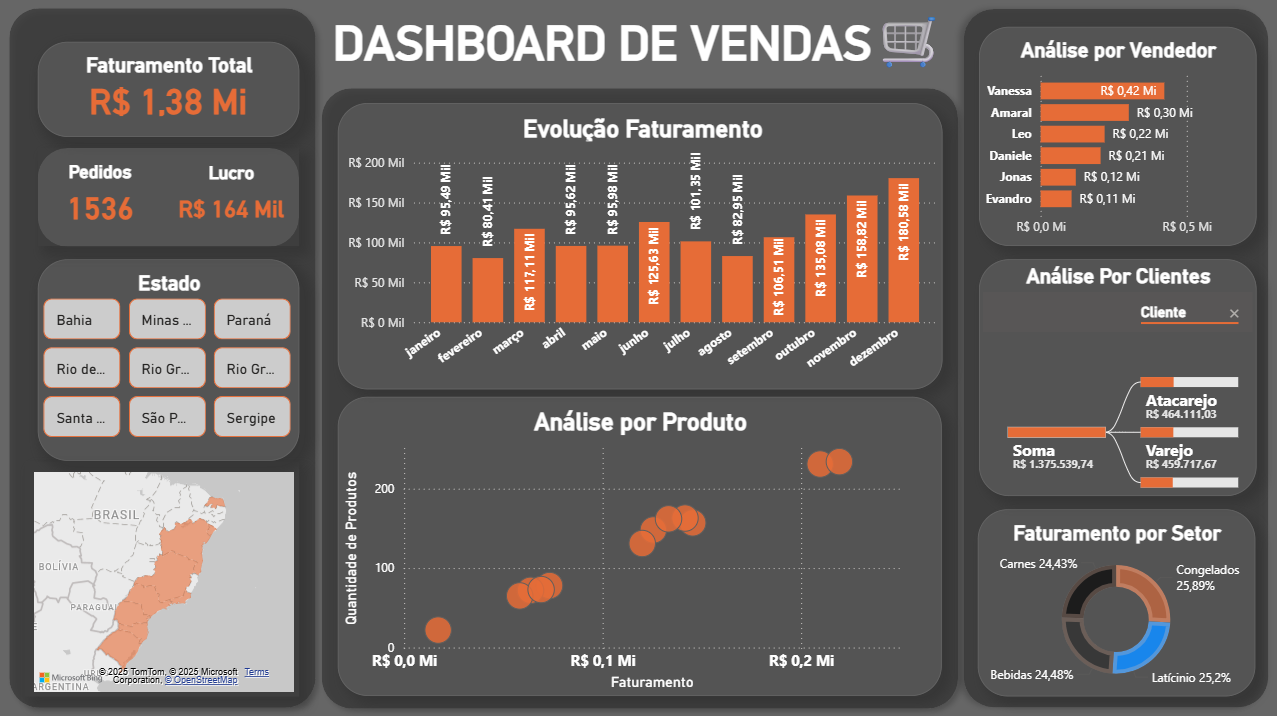

The dashboard page shown, as its layout file describes it:
{"tool":"powerbi","page":{"name":"DashBoard de Vendas","canvas":[1280,720],"ordinal":0},"visuals":[{"type":"shape","box":[313,79.5,656.7,640.8],"z":0},{"type":"shape","box":[953.8,0,326.5,720.2],"z":1000},{"type":"shape","box":[0,0,326.7,720],"z":2000},{"type":"clusteredColumnChart","title":"Evolução Faturamento","fields":{"Y":["Voitto Supply.Soma"],"Category":["Voitto Supply.Data da venda.Variation.Hierarquia de datas.Mês"]},"box":[338.8,105,605,286.2],"z":3000},{"type":"clusteredBarChart","title":"Análise por Vendedor","fields":{"Category":["Voitto Supply.Vendedor"],"Y":["Voitto Supply.Soma"]},"box":[979.6,29,277.5,219.6],"z":4000},{"type":"card","title":"Faturamento Total","fields":{"Values":["Voitto Supply.Soma"]},"box":[38.6,43.4,261.8,95.3],"z":5000},{"type":"advancedSlicerVisual","fields":{"Values":["Voitto Supply.Estado"]},"box":[38.6,261.8,261.8,201.5],"z":6000},{"type":"donutChart","title":"Faturamento por Setor","fields":{"Y":["Voitto Supply.Soma"],"Category":["Voitto Supply.Setor"]},"box":[978.4,511.5,277.5,187],"z":7000},{"type":"scatterChart","title":"Análise por Produto","fields":{"X":["Voitto Supply.Soma"],"Category":["Voitto Supply.Produto"],"Y":["Voitto Supply.Medida"]},"box":[338.7,398.6,604.1,299.6],"z":8000},{"type":"decompositionTreeVisual","title":"Análise Por Clientes","fields":{"Analyze":["Voitto Supply.Soma"],"ExplainBy":["Voitto Supply.Cliente"]},"box":[979.6,261.8,277.5,236.5],"z":9000},{"type":"filledMap","fields":{"Category":["Voitto Supply.Estado"]},"box":[26.5,463.3,273.9,235.3],"z":10000},{"type":"textbox","box":[325.7,0,627.3,117],"z":11000},{"type":"shape","box":[38.8,150,261.2,98.8],"z":12000},{"type":"card","title":"Pedidos","fields":{"Values":["Voitto Supply.Produto"]},"box":[38.8,152.5,125,96.2],"z":13000},{"type":"card","title":"Lucro","fields":{"Values":["Voitto Supply.LucroSoma"]},"box":[170,153.8,125,96.2],"z":14000}]}

Visuals, with their boxes in screenshot pixels (x1, y1, x2, y2), scaled from the page's 1280x720 canvas onto the 1277x716 screenshot:
shape: <region>312, 79, 967, 715</region>
shape: <region>952, 0, 1276, 715</region>
shape: <region>0, 0, 326, 715</region>
"Evolução Faturamento" clusteredColumnChart: <region>338, 104, 942, 389</region>
"Análise por Vendedor" clusteredBarChart: <region>977, 29, 1254, 247</region>
"Faturamento Total" card: <region>39, 43, 300, 138</region>
advancedSlicerVisual - Voitto Supply.Estado: <region>39, 260, 300, 461</region>
"Faturamento por Setor" donutChart: <region>976, 509, 1253, 695</region>
"Análise por Produto" scatterChart: <region>338, 396, 941, 694</region>
"Análise Por Clientes" decompositionTreeVisual: <region>977, 260, 1254, 496</region>
filledMap - Voitto Supply.Estado: <region>26, 461, 300, 695</region>
textbox: <region>325, 0, 951, 116</region>
shape: <region>39, 149, 299, 247</region>
"Pedidos" card: <region>39, 152, 163, 247</region>
"Lucro" card: <region>170, 153, 294, 249</region>
